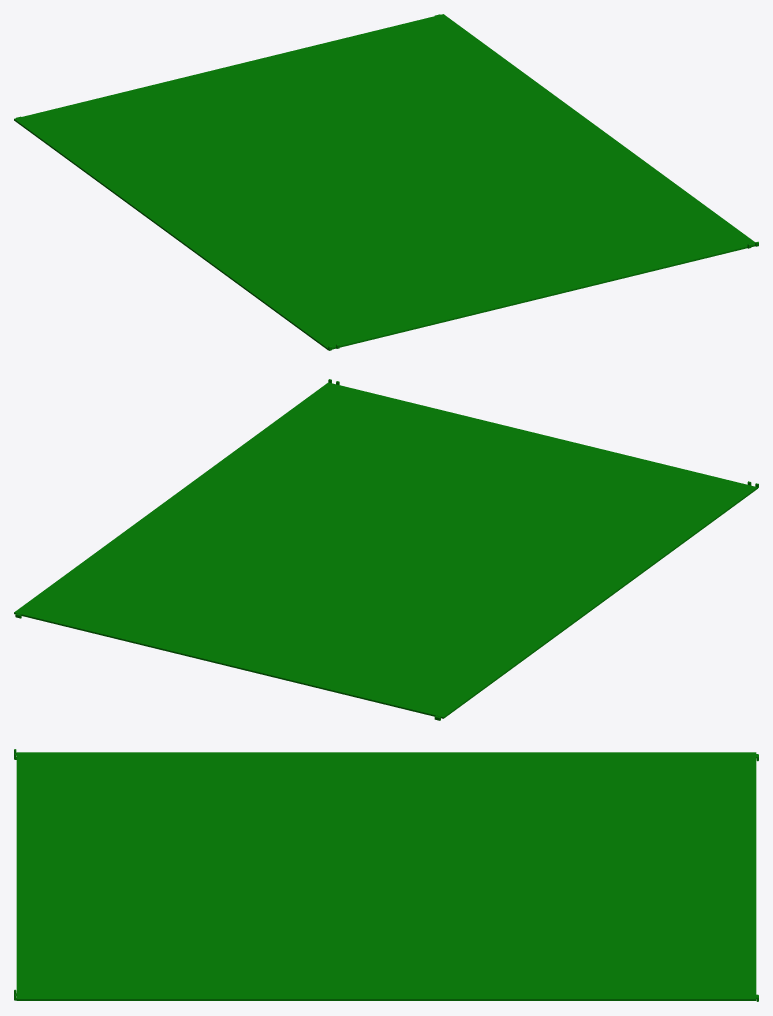
Rendered from psycheSolarPanel1-1_a.obj.
The picture shows the model from 3 angles, top to bottom: view 1: azimuth 30°, elevation 25°; view 2: azimuth 150°, elevation 25°; view 3: azimuth 270°, elevation 25°; orthographic projection. The views are drawn at different scales.
Bounding box in the file's own units: 309 × 4.53 × 395.
